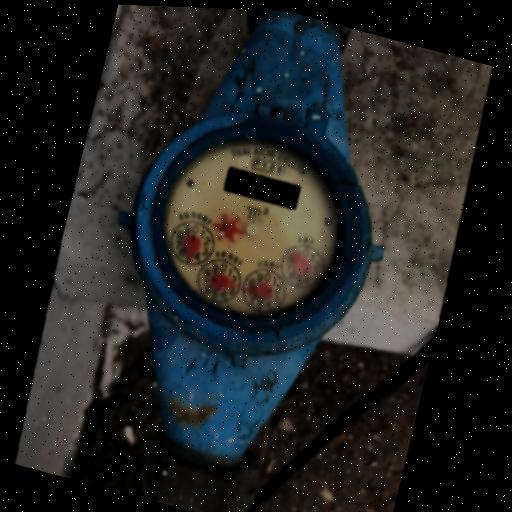0: (225, 167, 248, 195)
1: (278, 182, 302, 210)
4: (243, 172, 265, 200)
7: (261, 177, 282, 204)
border_water_meter_number: (223, 166, 302, 211)
